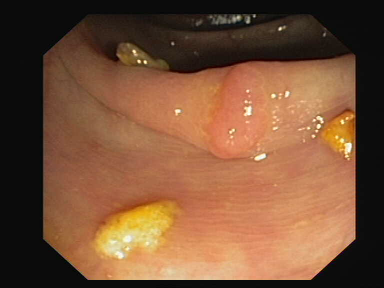polyp: (199, 64, 287, 159), (89, 185, 188, 267), (305, 96, 366, 169), (114, 37, 178, 88)
